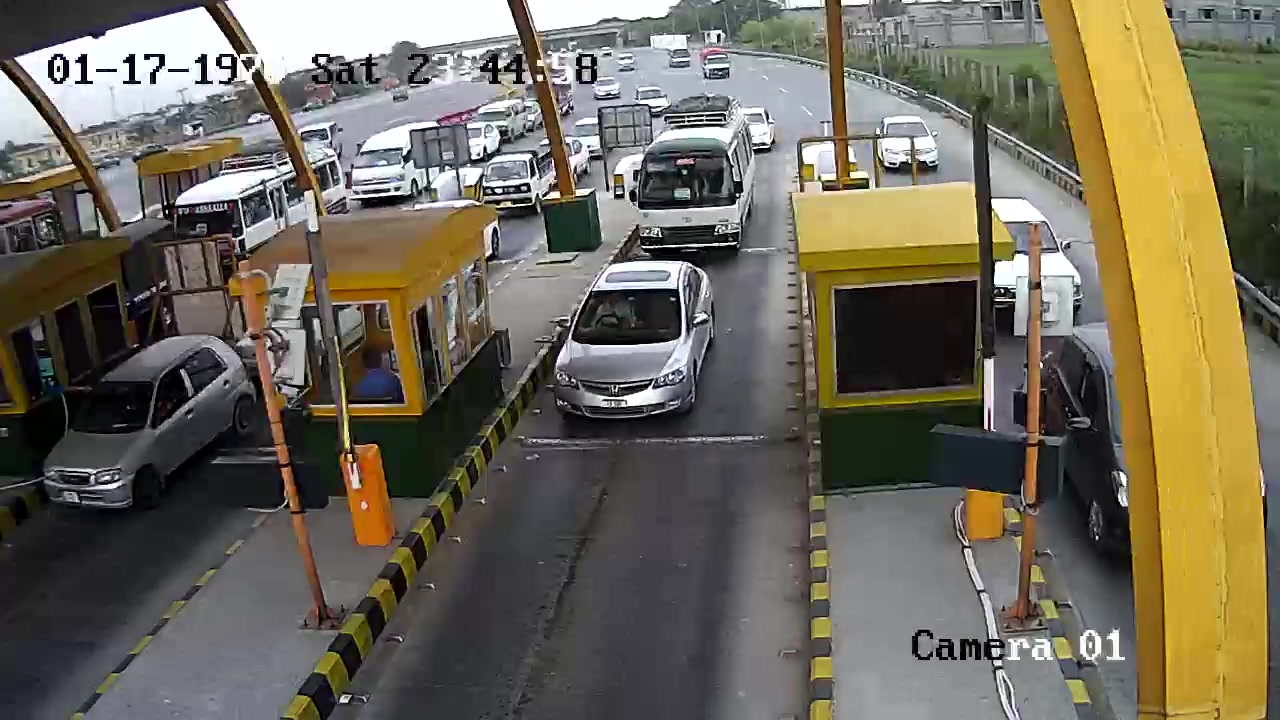F1: (540, 258, 743, 430)
